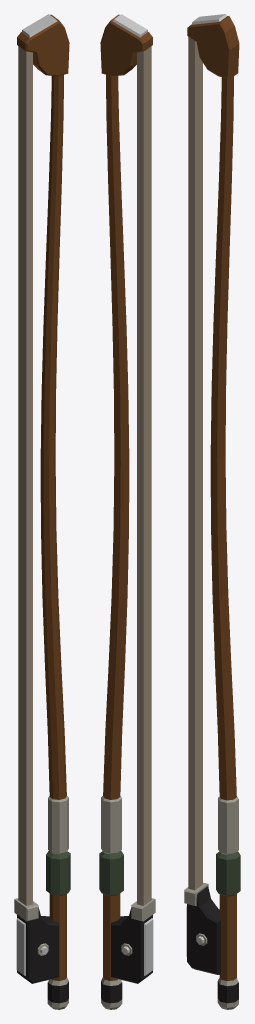
The model's file is string-bow-6ae03c.glb.
3 renders of one model, left to right at view 1: azimuth 30°, elevation 25°; view 2: azimuth 150°, elevation 25°; view 3: azimuth 330°, elevation 25°, orthographic.
Visible parts, largest first — view 1: bow-body, bow-mounts; view 2: bow-body, bow-mounts; view 3: bow-body, bow-mounts.
Boxes of the visible parts, <box> form: bow-body: <box>16,14,70,1003</box>; bow-mounts: <box>14,796,68,1009</box>; bow-body: <box>99,14,153,1003</box>; bow-mounts: <box>101,796,155,1009</box>; bow-body: <box>186,14,240,1003</box>; bow-mounts: <box>184,796,238,1009</box>.
Bounding box in the file's own units: 0.0381 × 0.7511 × 0.0212.
